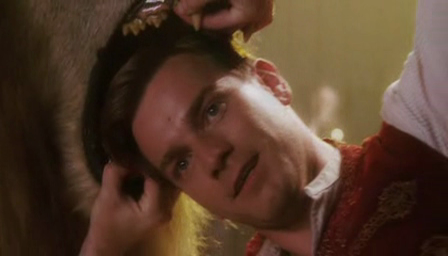cu: (1, 1, 448, 256)
face: (142, 65, 300, 230)
person: (78, 1, 448, 256)
